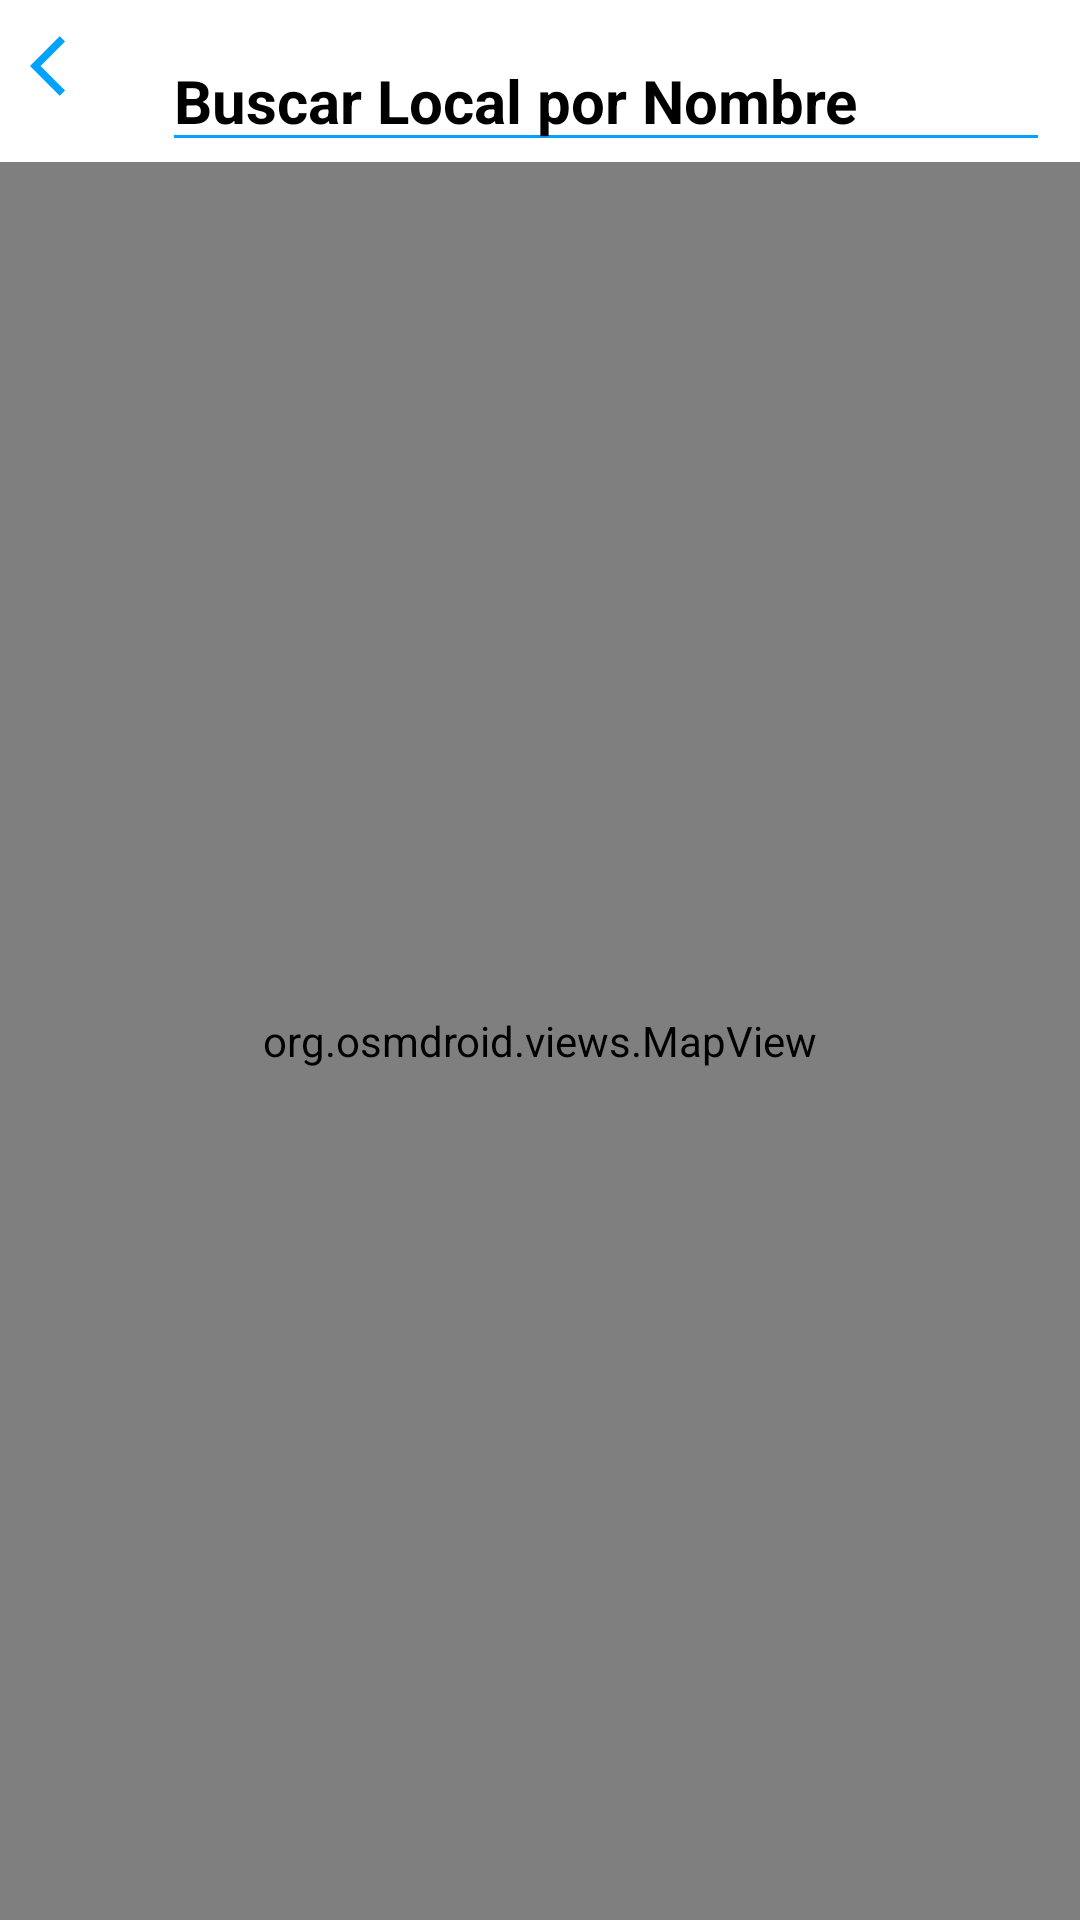

Where to tap for icons on this 1080px×1920px app screen, as (x=x, y=y):
flacha back: (x=47, y=66)
